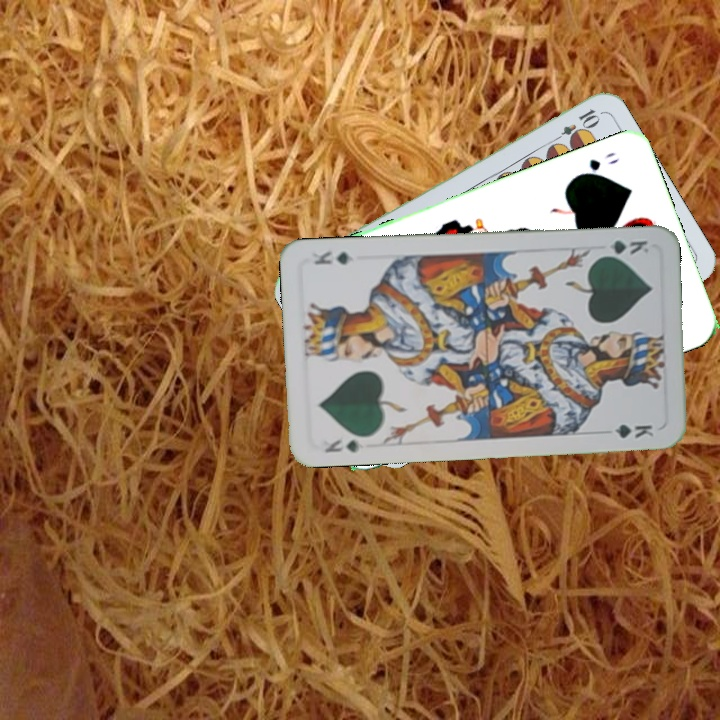E10: (548, 104, 602, 147)
GK: (595, 236, 651, 260), (320, 432, 367, 455)
GO: (571, 148, 622, 180)
